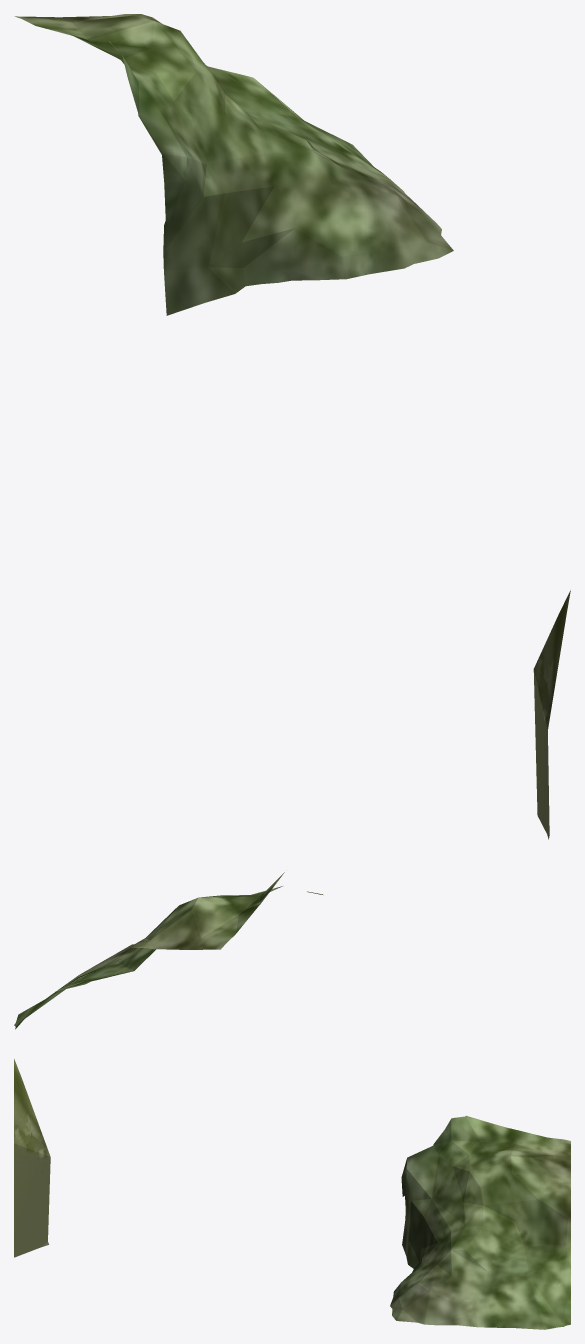
3 views of the same model, one above another, from view 1: azimuth 30°, elevation 25°; view 2: azimuth 150°, elevation 25°; view 3: azimuth 270°, elevation 25° (orthographic). The views are drawn at different scales.
Size of the model in its own units: 1.07 by 1.09 by 2.95.
Materials: 1 (1 with a texture image).
